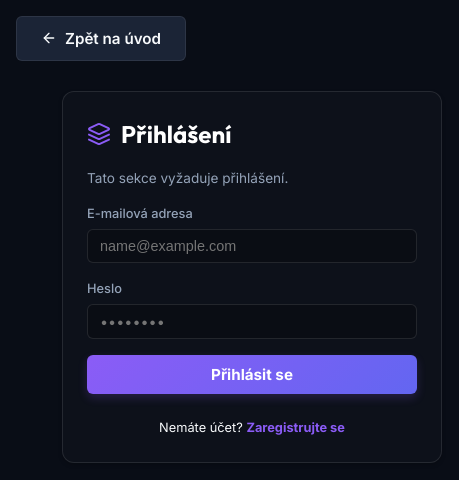
Test: Přístupnost › přepínání přihlášení/registrace je tlačítko, ne prázdný odkaz
The width and height of the screenshot is (459, 480).
Click the button "Zaregistrujte se" at (296,428), box [246, 418, 345, 438]
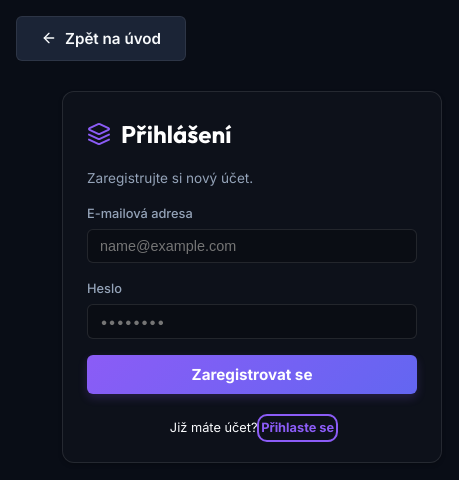
Expected: the button "Přihlaste se" is shown, [261, 418, 334, 438]
